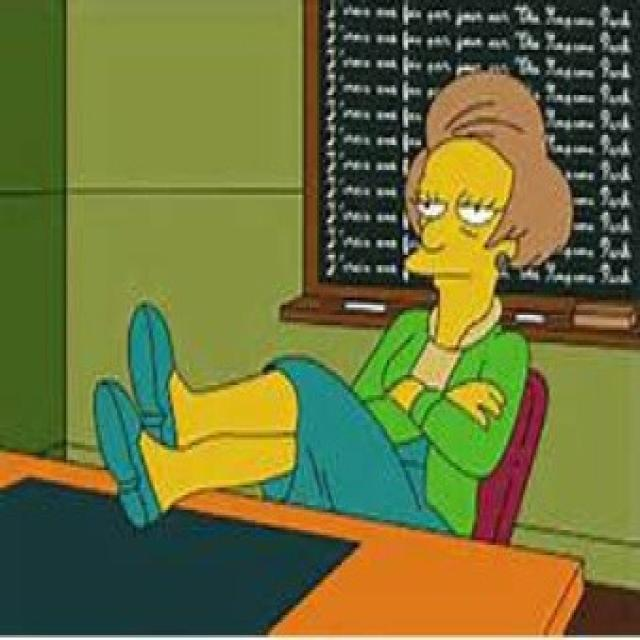Edna Krappel: (396, 72, 574, 358)
